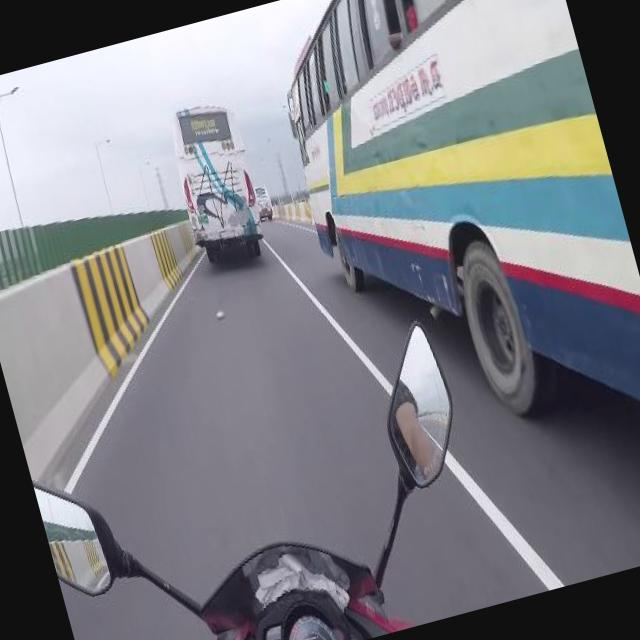bus: (254, 0, 640, 458), (160, 94, 272, 266), (252, 181, 276, 220)
motorcycle: (16, 308, 506, 640)
